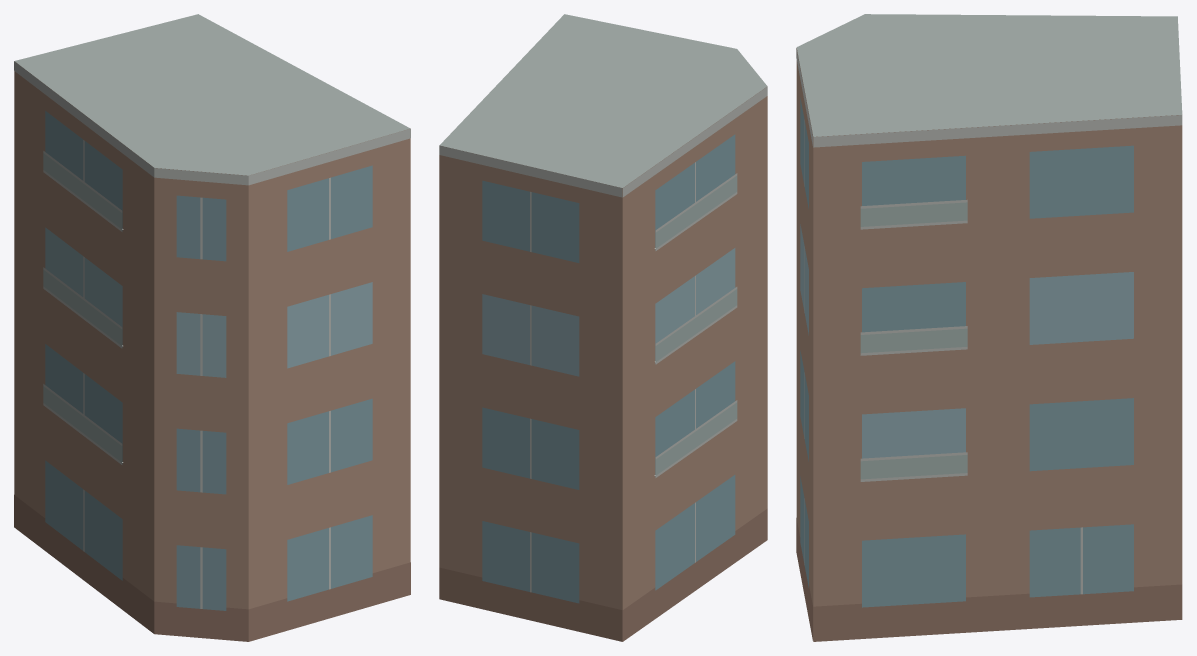
Rendered from survey-upis-32472278.glb.
The picture shows the model from 3 angles, left to right: view 1: azimuth 30°, elevation 25°; view 2: azimuth 150°, elevation 25°; view 3: azimuth 270°, elevation 25°; orthographic projection. The views are drawn at different scales.
Parts seen in each view (by area): view 1: survey-upis-32472278.tmp; view 2: survey-upis-32472278.tmp; view 3: survey-upis-32472278.tmp.
Part boxes in pixels (x1,y1,x2,y2): survey-upis-32472278.tmp: [14, 14, 410, 641]; survey-upis-32472278.tmp: [439, 14, 767, 641]; survey-upis-32472278.tmp: [796, 14, 1182, 641].
Size of the model in its own units: 6.07 by 11.6 by 8.04.
